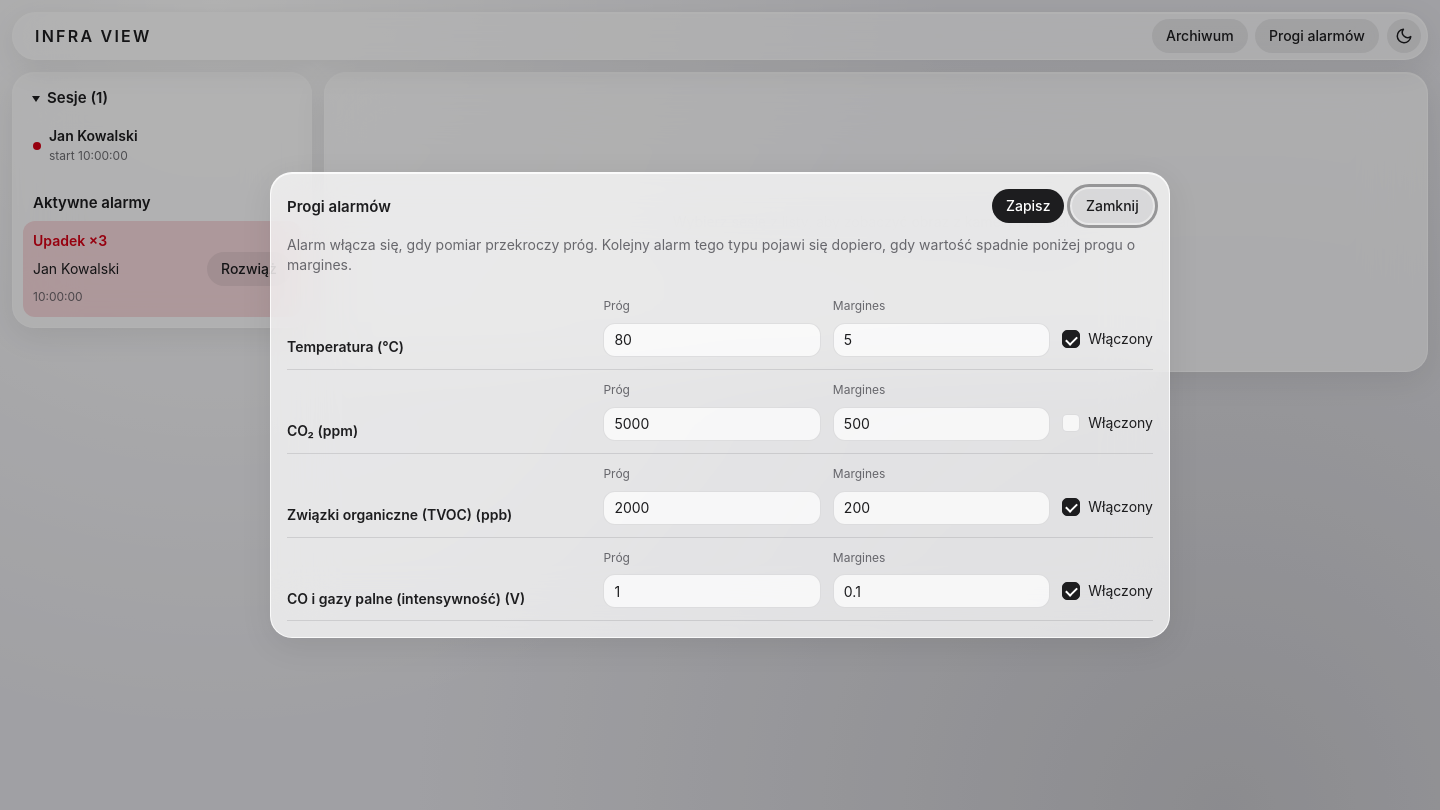
Test: pyta przed porzuceniem niezapisanych progów
Earlier steps of the test are not shown.
Press Escape in the dialog "Progi alarmów", box [270,172,1170,638]
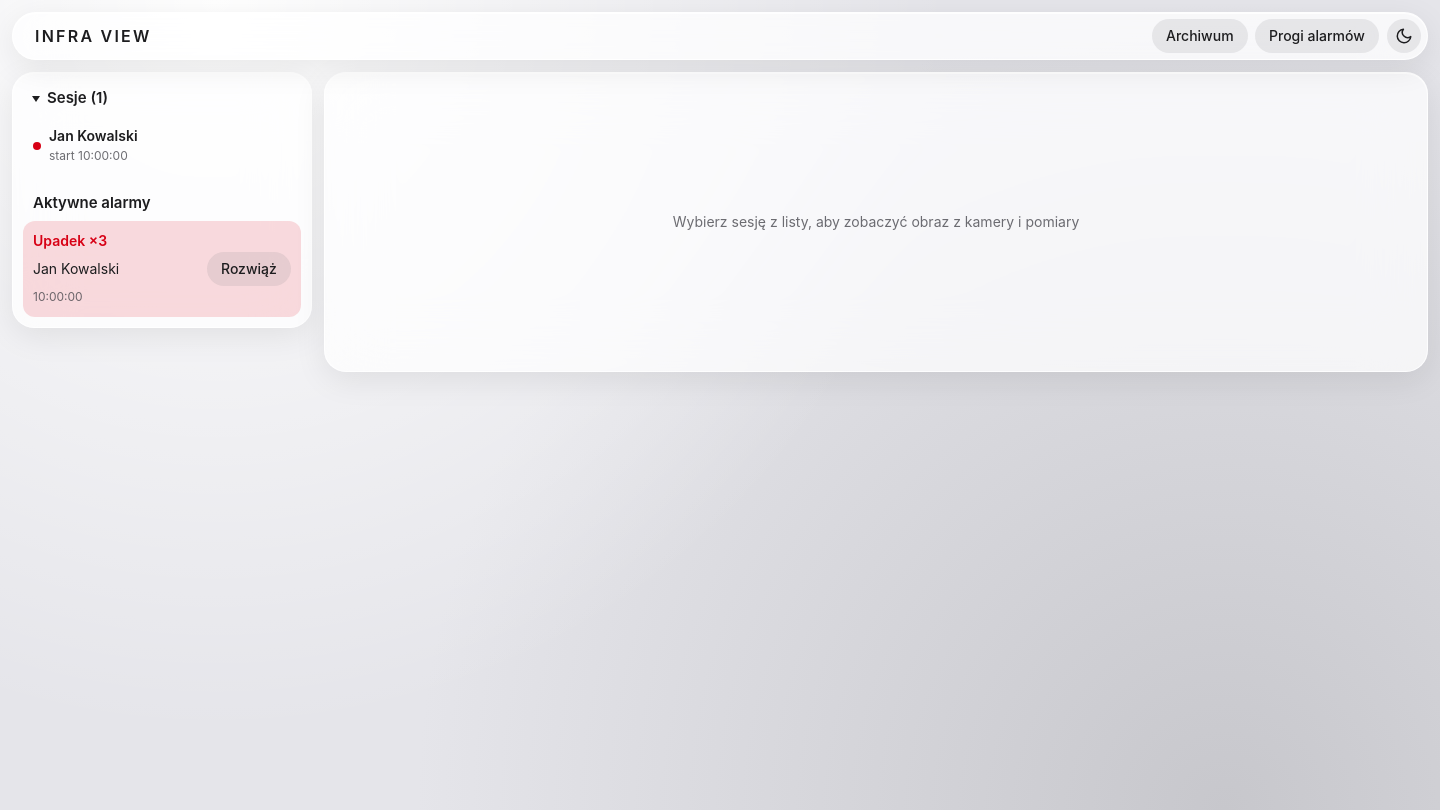
expect the dialog is gone: met
Click the button "Progi alarmów" at (1317, 36), box [1255,19,1379,53]
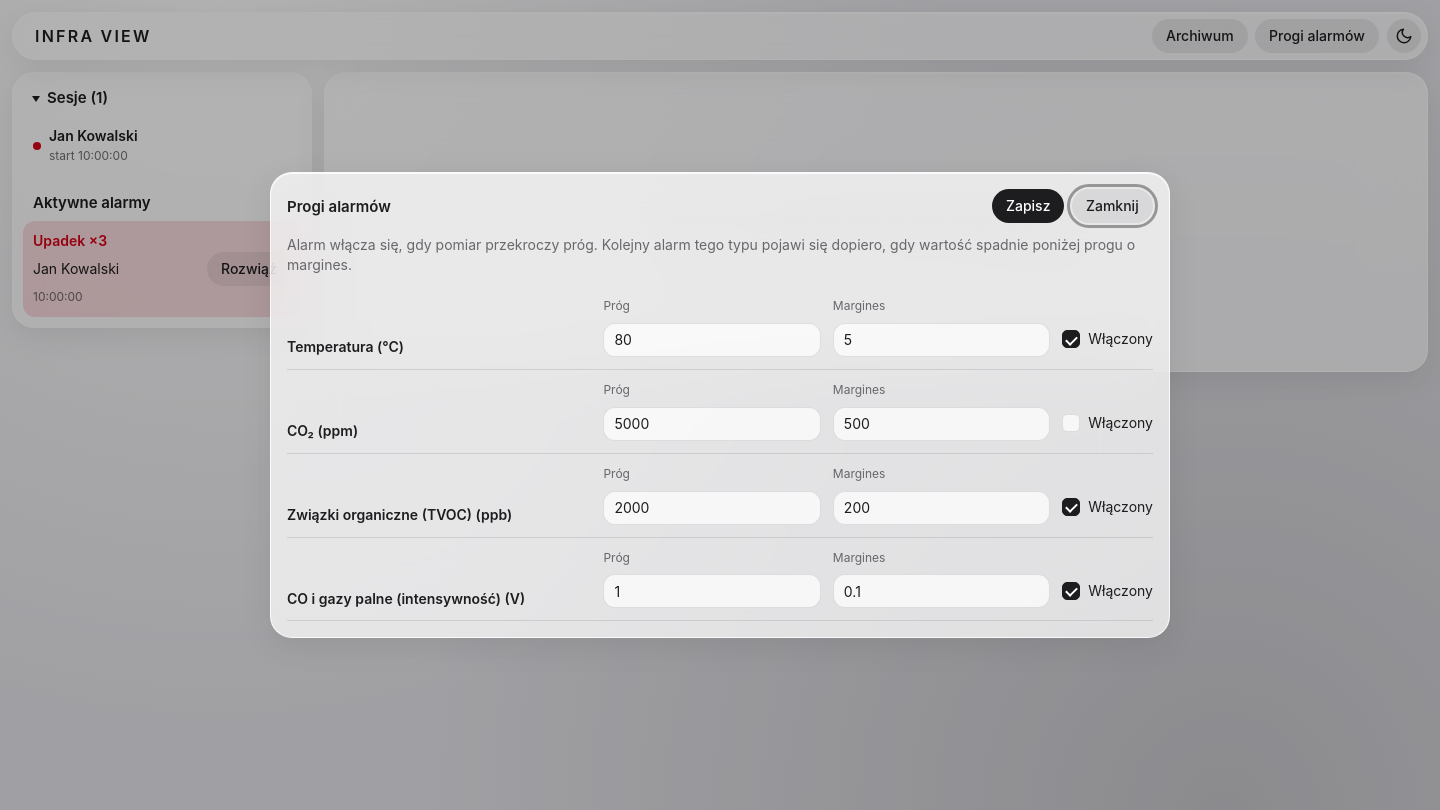
Replace the text in the number field labelled "Próg" in the row of "Temperatura (°C)" with "60" at (712, 340), box [603,323,821,357]
Press Escape in the dialog "Progi alarmów", box [270,172,1170,638]
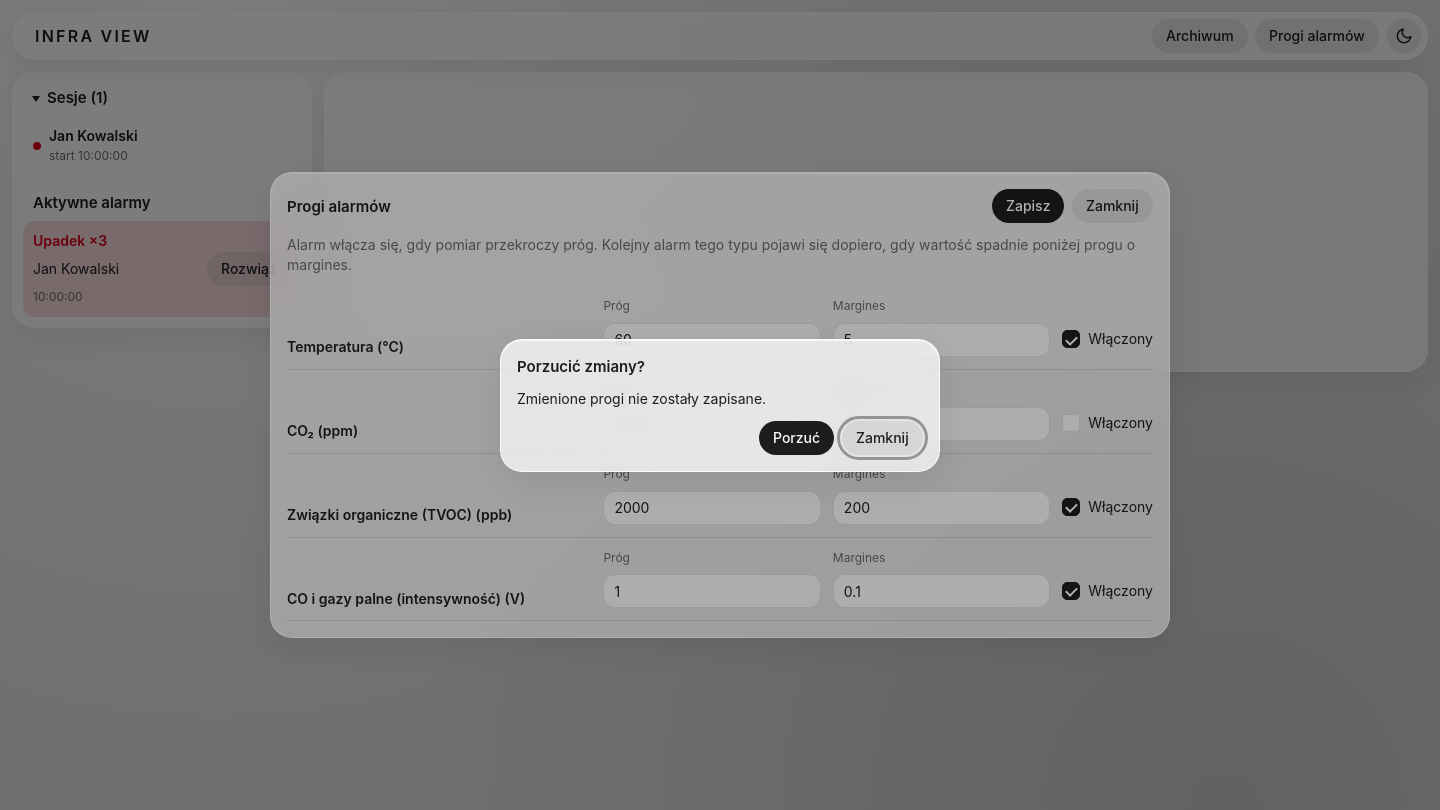
Press Escape in the dialog "Porzucić zmiany?", box [500,339,940,471]
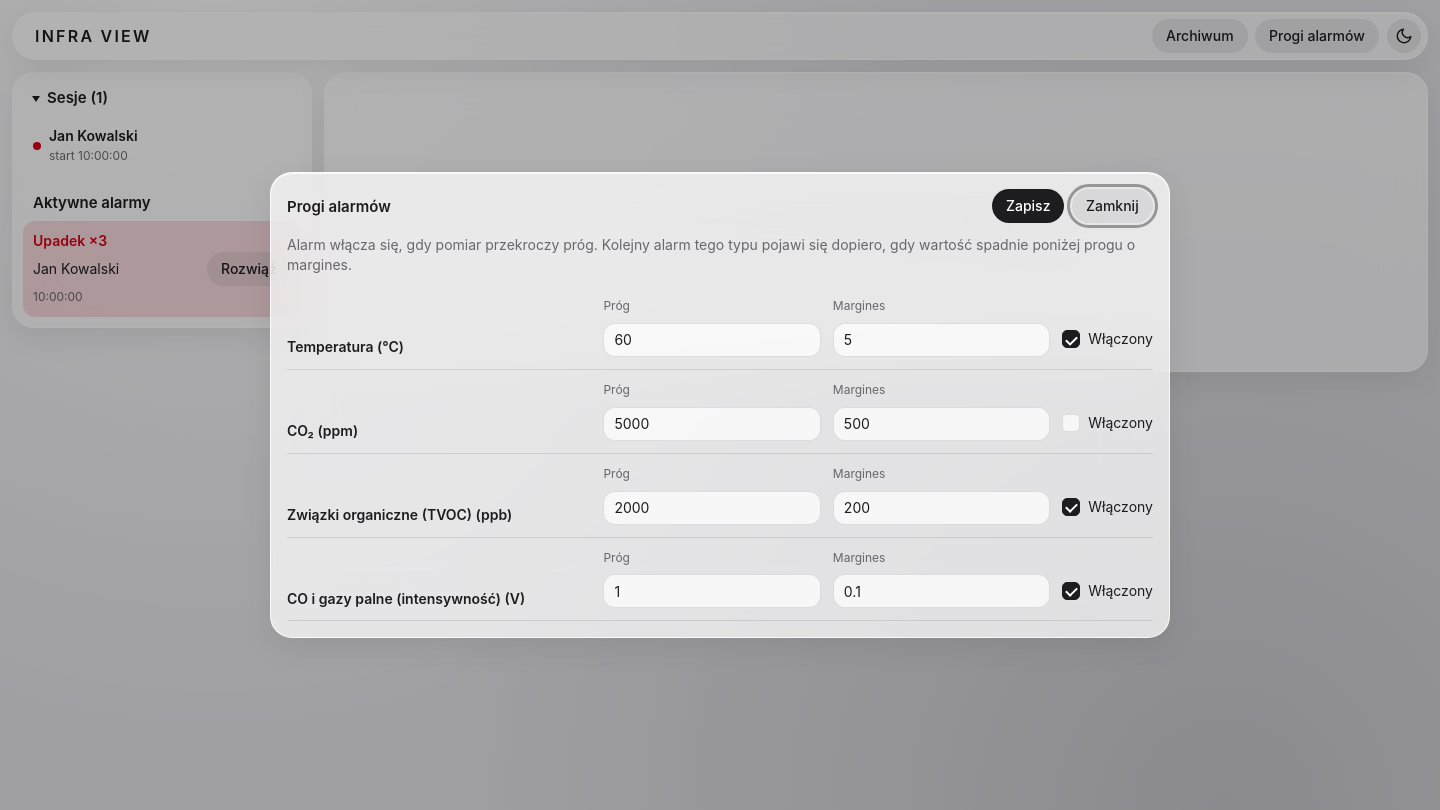
expect the heading "Porzucić zmiany?" is gone: met
Click the button "Zamknij" at (1113, 206), box [1072,189,1153,223]
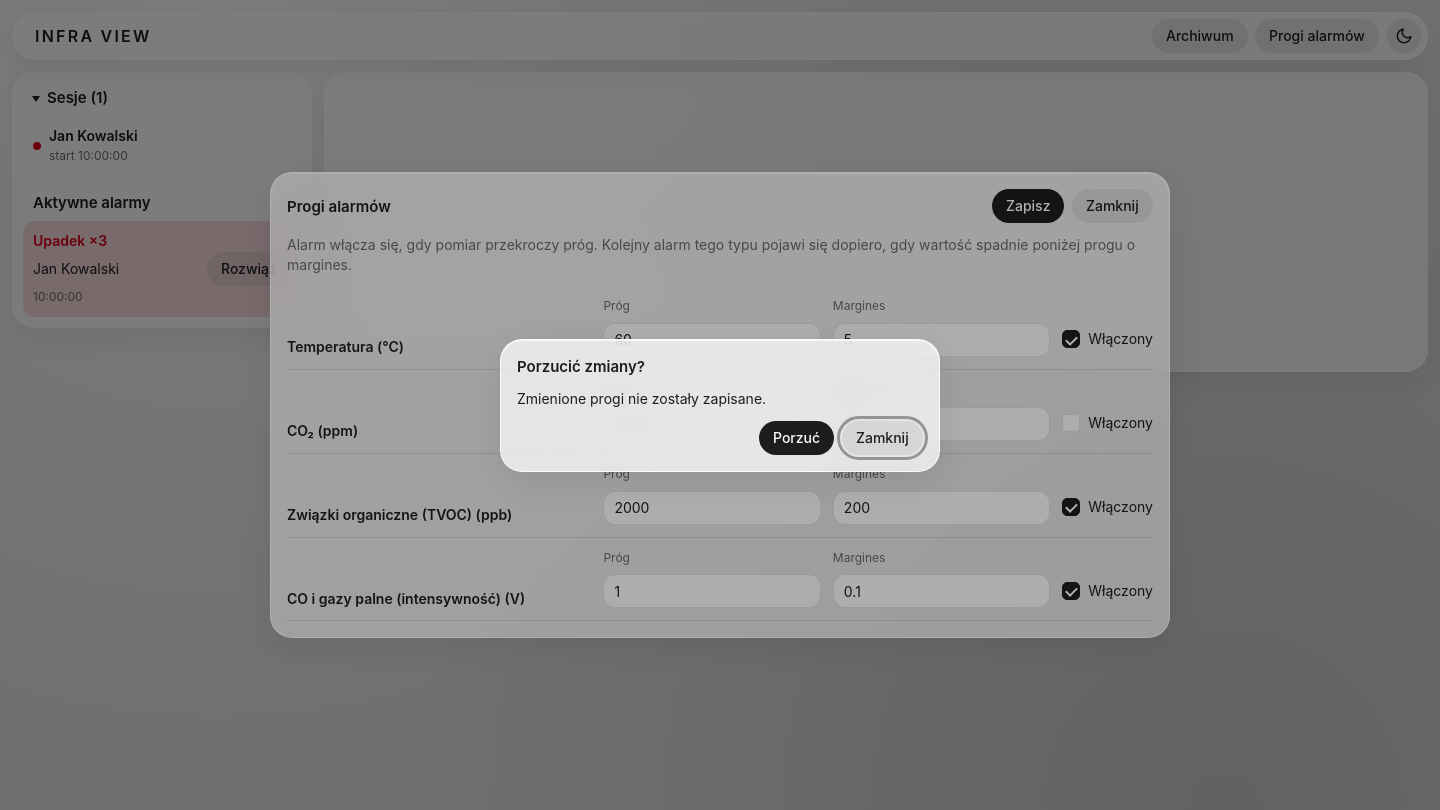
Click the button "Porzuć" at (797, 437), box [759,420,834,454]
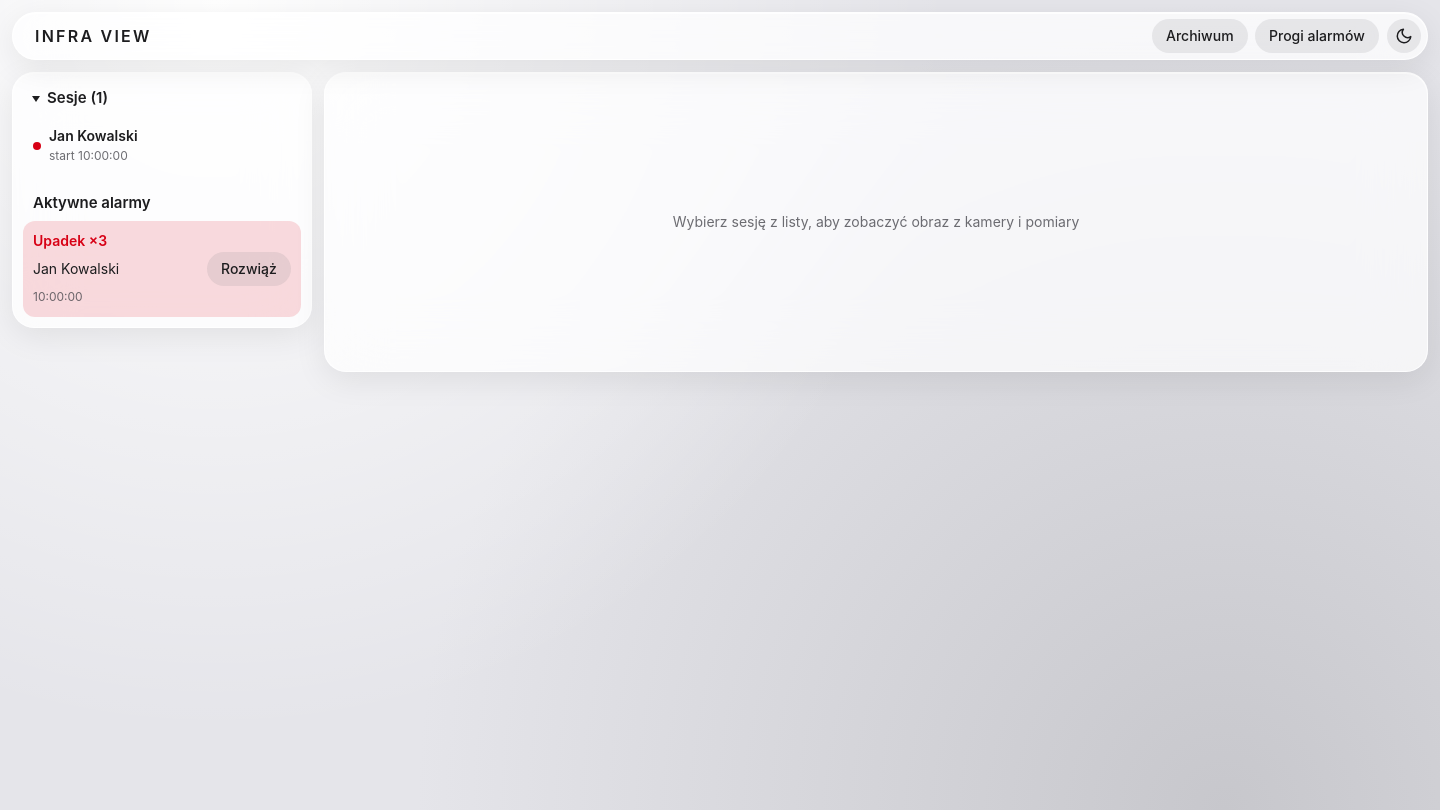
expect the dialog is gone: met
